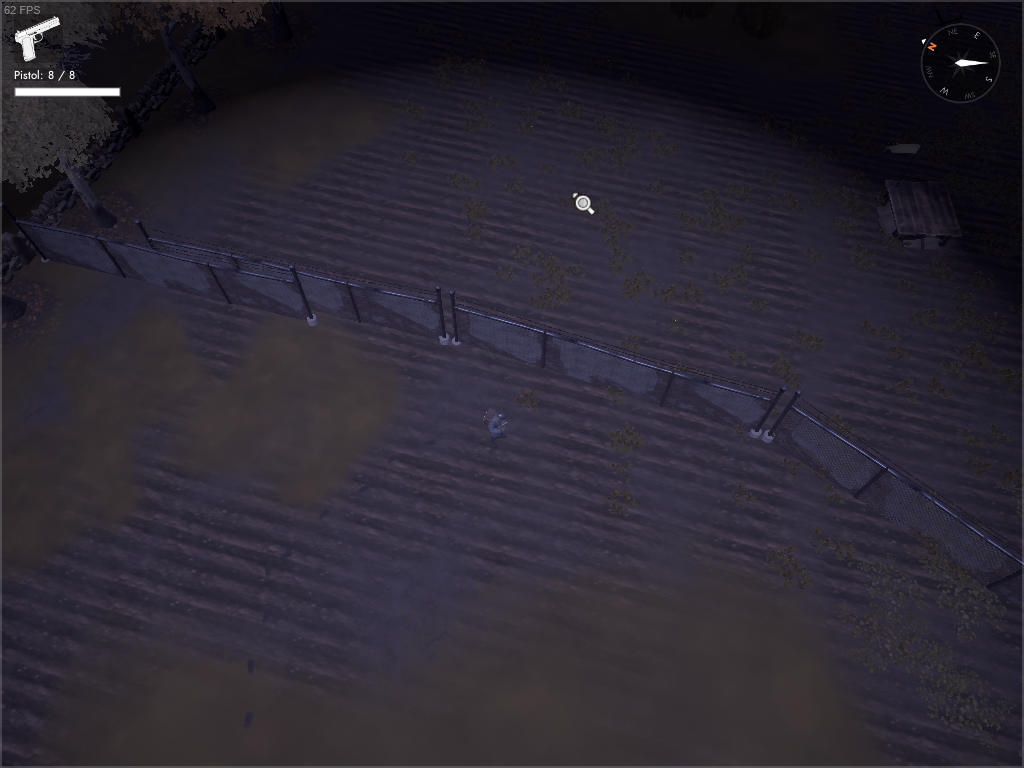fence: (758, 385, 1024, 622), (446, 287, 790, 443), (130, 217, 453, 349), (7, 210, 320, 331)
pillbox: (875, 137, 964, 255)
player: (479, 405, 513, 452)
